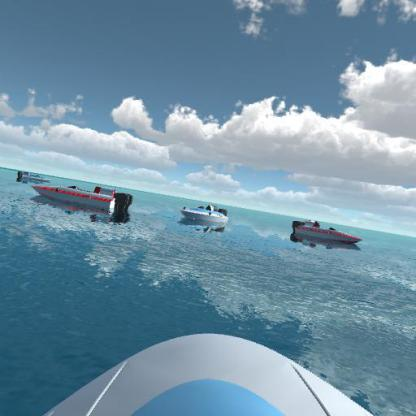usv1: (178, 198, 230, 231), (16, 165, 55, 184)
usv3: (35, 180, 134, 225), (289, 216, 364, 254)
